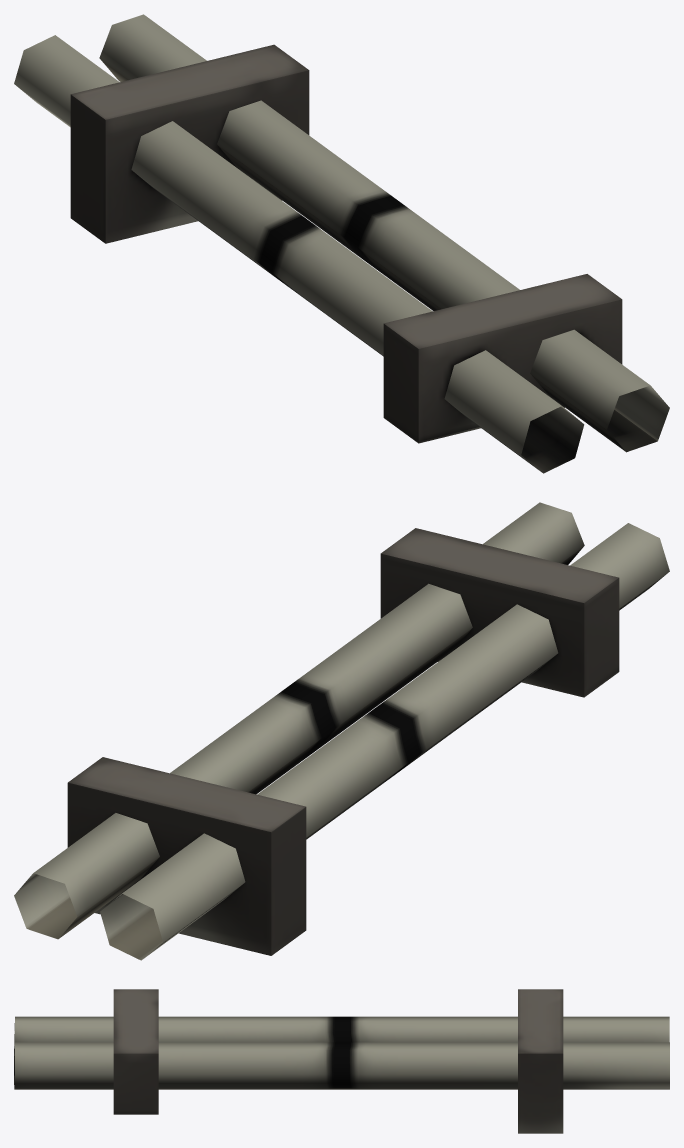
The model's file is ObstaculoBarillas.fbx.
3 renders of one model, top to bottom at view 1: azimuth 30°, elevation 25°; view 2: azimuth 150°, elevation 25°; view 3: azimuth 270°, elevation 25°, orthographic. The views are drawn at different scales.
Parts seen in each view (by area): view 1: Tuberia.001; view 2: Tuberia.001; view 3: Tuberia.001.
Part boxes in pixels (bbox=[...]): Tuberia.001: bbox=[14, 14, 669, 473]; Tuberia.001: bbox=[14, 502, 669, 960]; Tuberia.001: bbox=[14, 989, 669, 1133].
Size of the model in its own units: 656 by 381 by 2833.
1 material, 1 textured.
